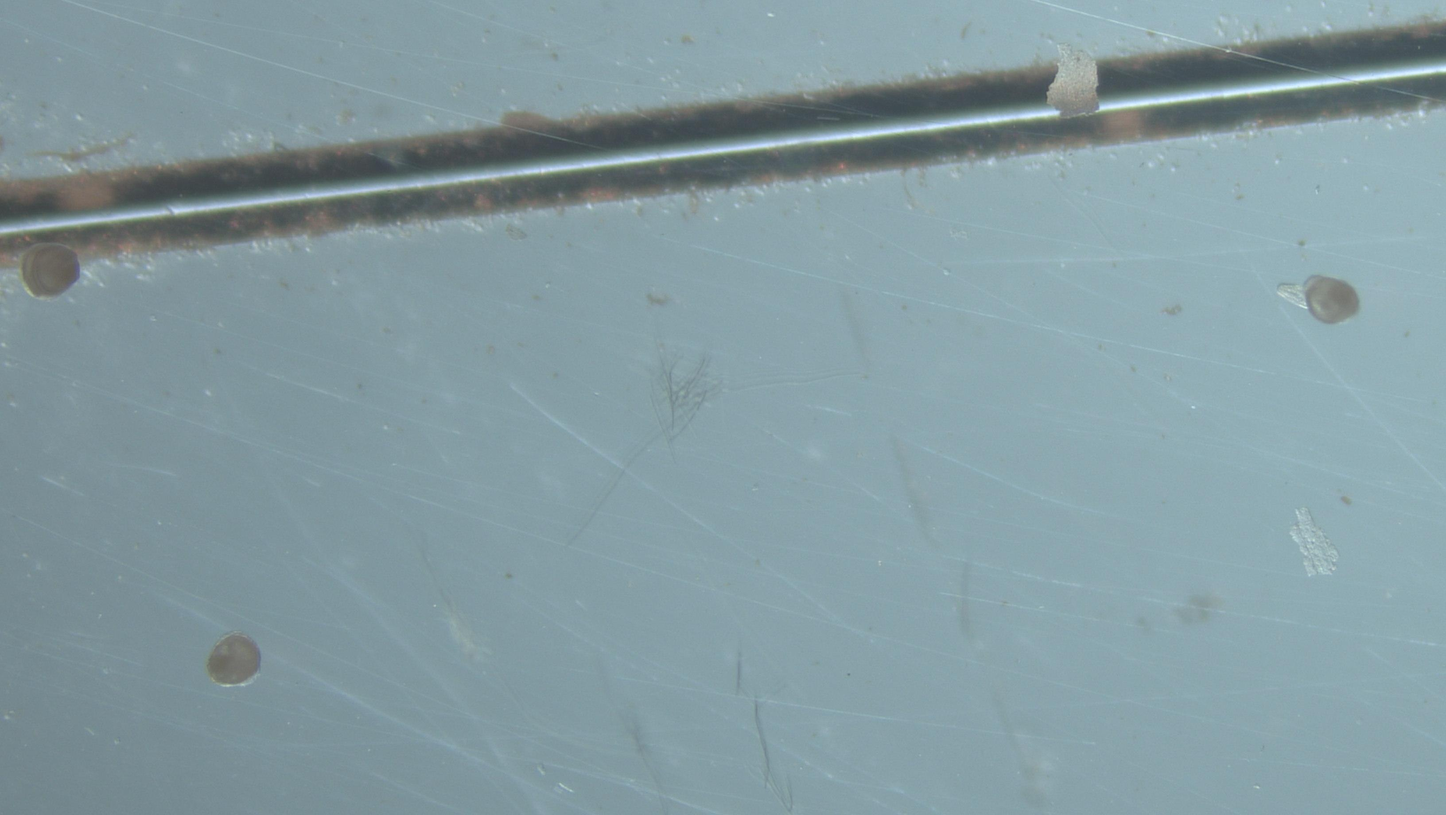live: (1276, 276, 1360, 325), (21, 243, 80, 299), (205, 632, 260, 687)
